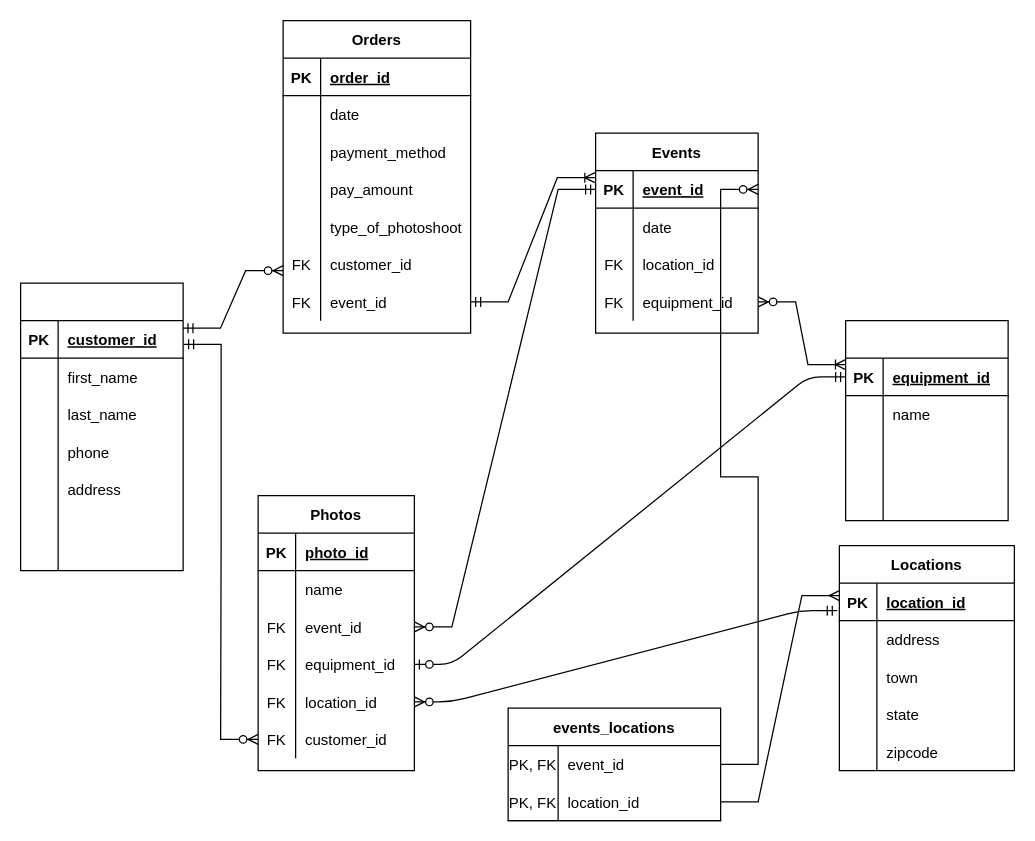
The diagram is 1035 pixels wide and 841 high, and some of its shapes have lost their labels. Each missing label, with the box of its shape:
Customers: (19, 282, 183, 571)
Equipments: (844, 319, 1008, 521)
